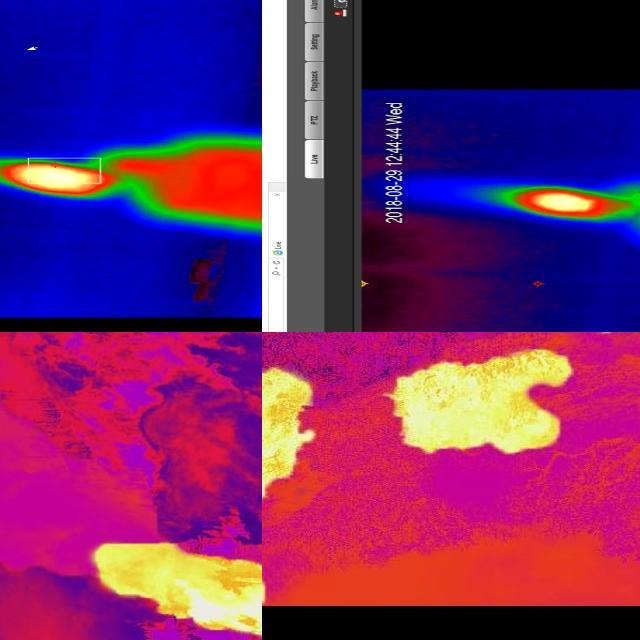fire: (394, 344, 577, 456), (90, 538, 262, 639), (263, 366, 321, 501), (487, 186, 631, 222), (1, 158, 116, 198)
